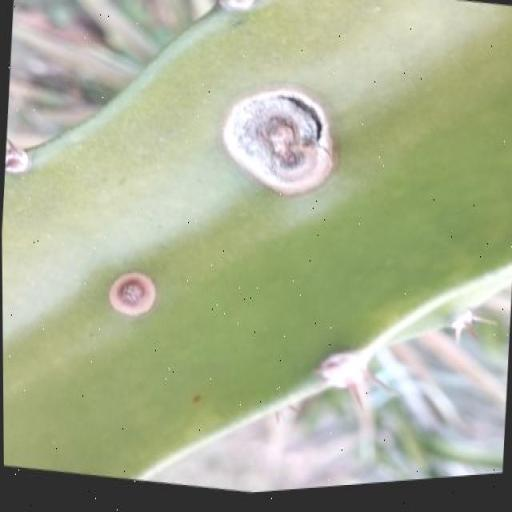stemcanker: (291, 93, 313, 119)
